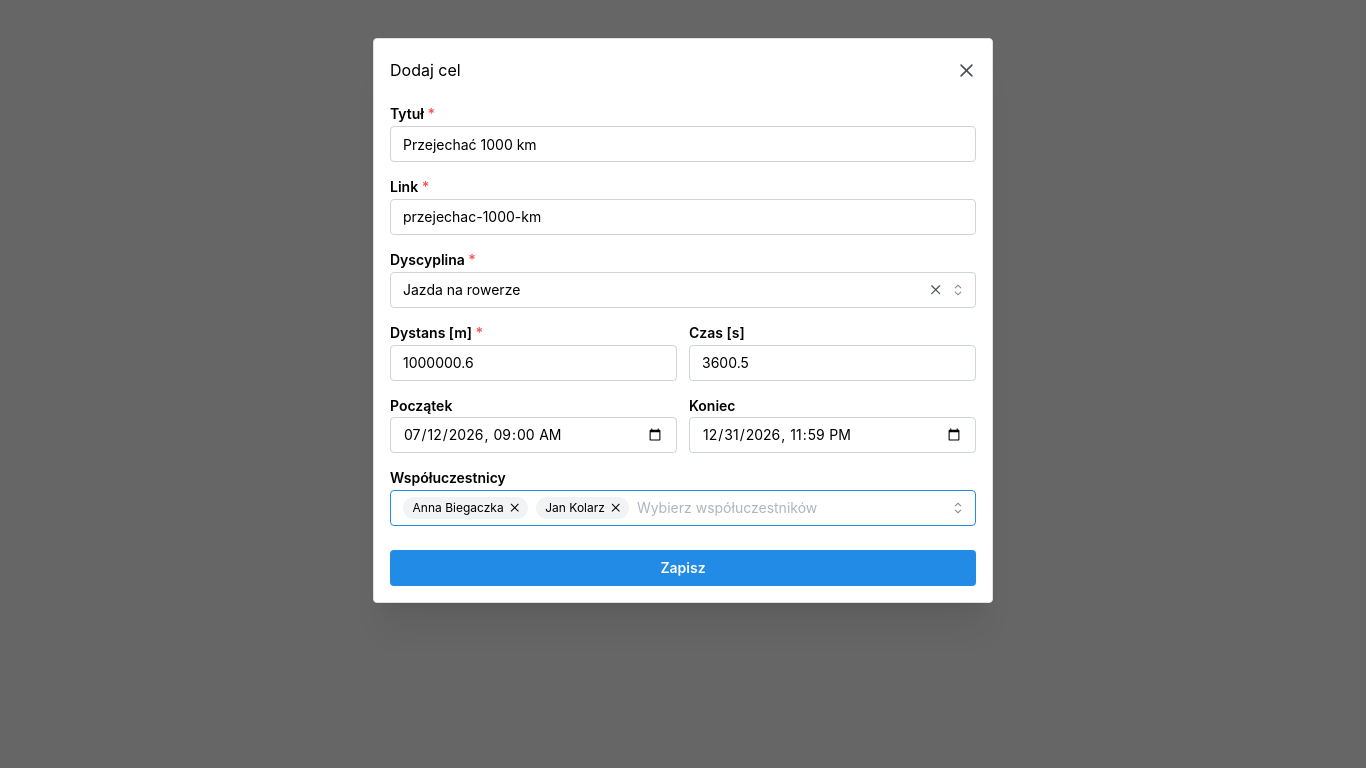
Test: GoalFormModal › creates a goal with rounded distance, optional time and dates, selected discipline and participants
Earlier steps of the test are not shown.
Click the button "Zapisz".
click(683, 568)  # box top-left (390, 550), bottom-right (976, 586)
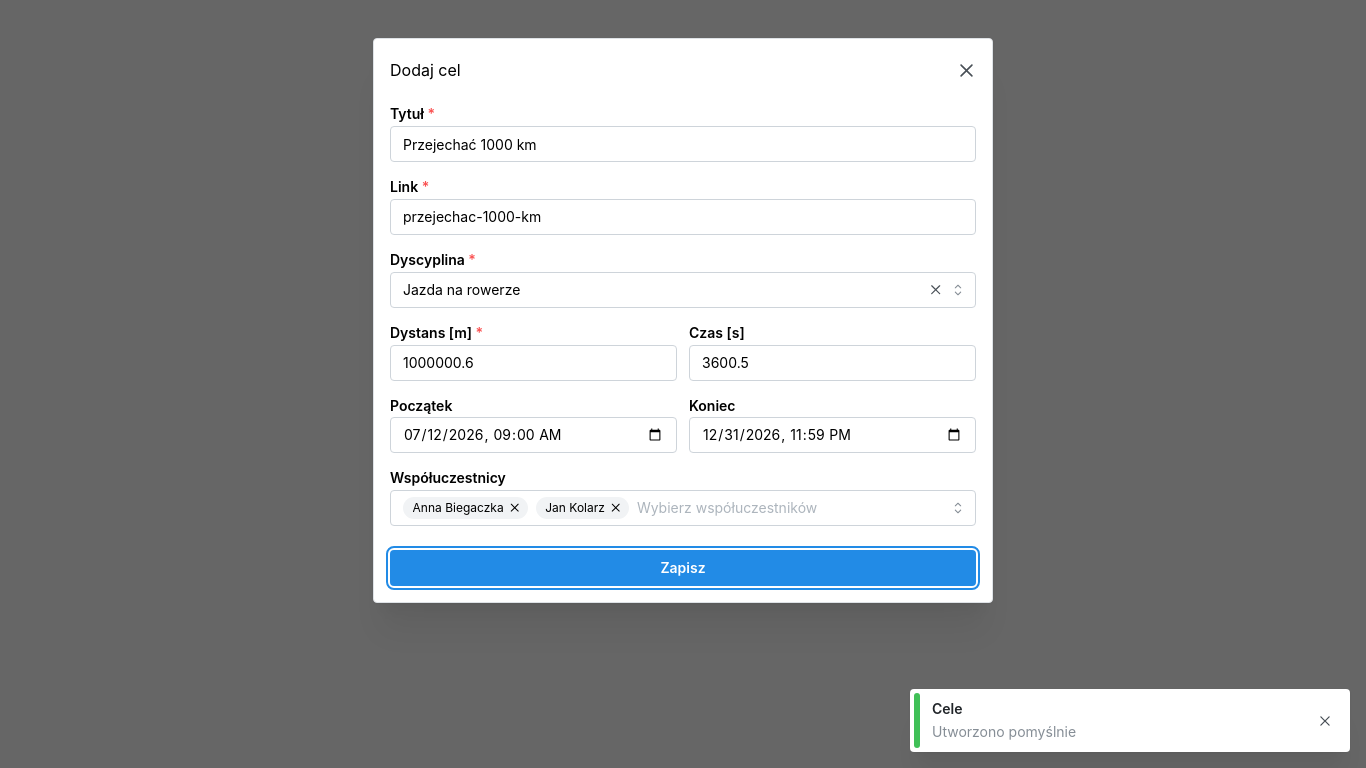
Now the text "Utworzono pomyślnie" is shown, box top-left (932, 723), bottom-right (1076, 740)
